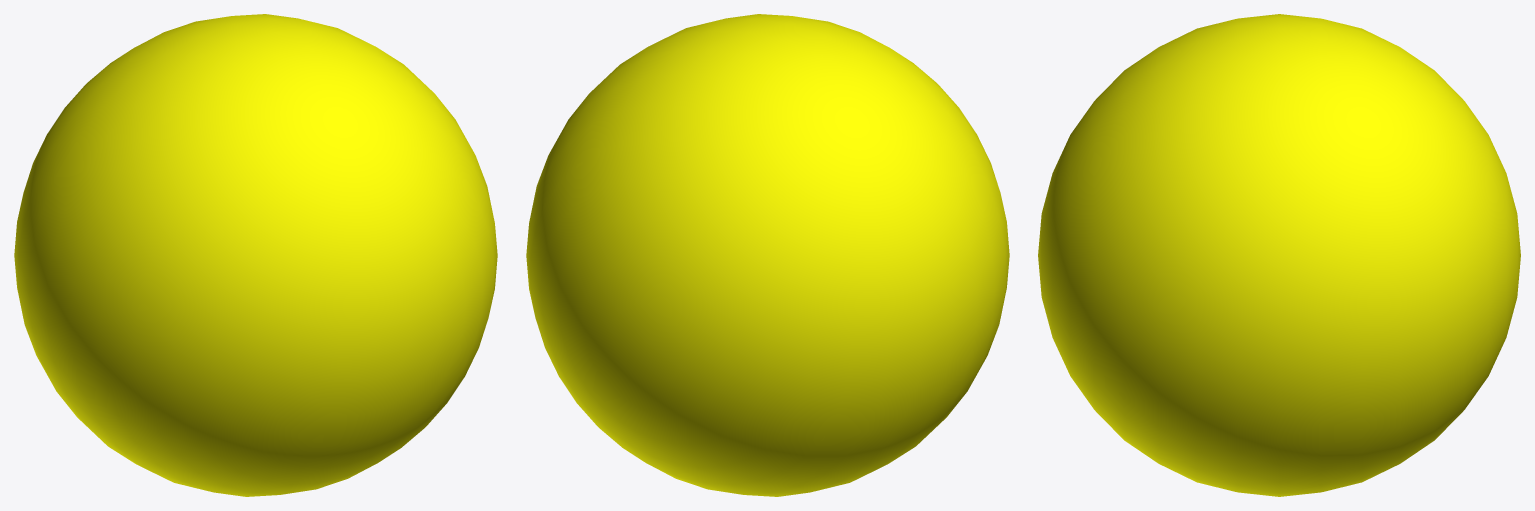
3 renders of one model, left to right at view 1: azimuth 30°, elevation 25°; view 2: azimuth 150°, elevation 25°; view 3: azimuth 270°, elevation 25°, orthographic.
Visible parts, largest first — view 1: GE-21500; view 2: GE-21500; view 3: GE-21500.
Boxes of the visible parts, <box> form: GE-21500: <box>14,14,497,496</box>; GE-21500: <box>526,14,1009,496</box>; GE-21500: <box>1038,14,1520,496</box>.
Bounding box in the file's own units: 0.1775 × 0.1771 × 0.1778.
